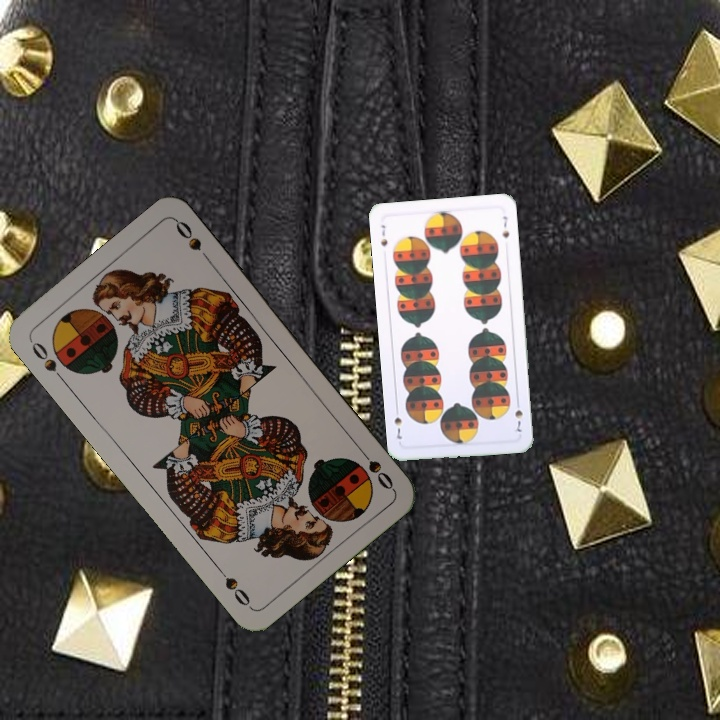S7: (511, 396, 525, 437), (377, 221, 390, 249)
SO: (353, 442, 396, 492), (26, 336, 68, 386)
